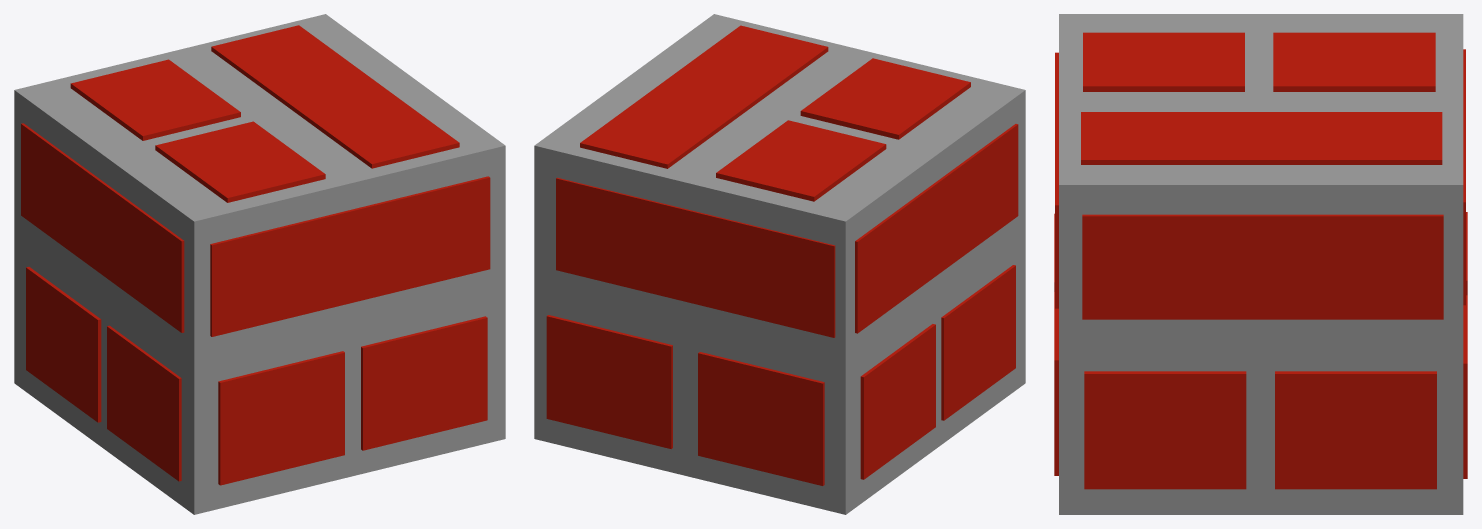
The model's file is bata.fbx.
3 views of the same model, side by side, from view 1: azimuth 30°, elevation 25°; view 2: azimuth 150°, elevation 25°; view 3: azimuth 270°, elevation 25° (orthographic). The views are drawn at different scales.
Visible parts, largest first — view 1: Cube, Cube.010, Cube.007, Cube.014, Cube.011, Cube.012, Cube.008, Cube.009, Cube.015, Cube.013; view 2: Cube, Cube.004, Cube.007, Cube.014, Cube.005, Cube.006, Cube.008, Cube.009, Cube.015, Cube.013; view 3: Cube, Cube.002, Cube.001, Cube.003, Cube.014, Cube.015, Cube.013, Cube.010, Cube.005, Cube.012, Cube.004.
Part boxes in pixels (x1,y1,x2,y2): Cube: (14,14,505,514); Cube.010: (210,176,490,336); Cube.007: (21,123,184,332); Cube.014: (211,25,459,168); Cube.011: (218,351,344,485); Cube.012: (361,316,487,450); Cube.008: (26,267,101,422); Cube.009: (107,325,181,481); Cube.015: (70,59,240,140); Cube.013: (155,121,325,202); Cube: (534,14,1025,514); Cube.004: (556,177,835,337); Cube.007: (855,124,1018,333); Cube.014: (580,25,828,168); Cube.005: (546,315,672,448); Cube.006: (698,352,824,485); Cube.008: (860,324,935,479); Cube.009: (941,265,1015,420); Cube.015: (716,120,886,201); Cube.013: (800,58,970,139); Cube: (1059,14,1463,514); Cube.002: (1082,214,1443,319); Cube.001: (1084,371,1246,489); Cube.003: (1275,371,1436,489); Cube.014: (1081,112,1442,164); Cube.015: (1273,32,1435,91); Cube.013: (1083,32,1244,91); Cube.010: (1055,52,1058,308); Cube.005: (1463,295,1467,478); Cube.012: (1054,292,1058,475); Cube.004: (1463,49,1465,305).
Size of the model in its own units: 205 by 185 by 204.
